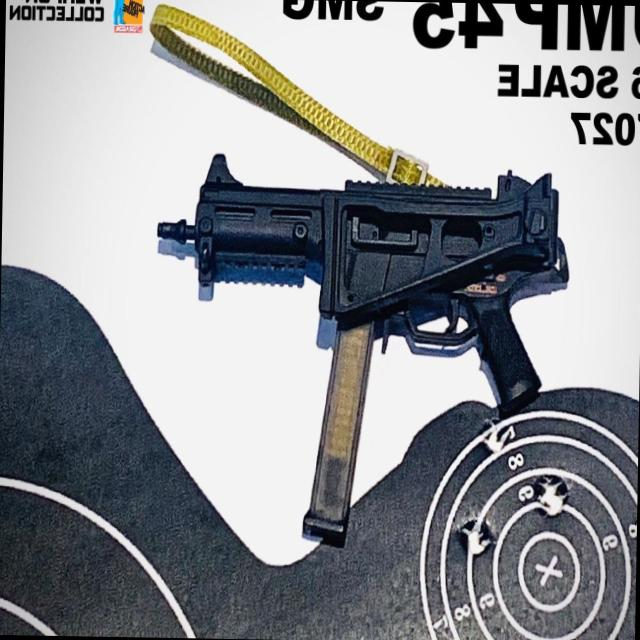Gun: (137, 147, 570, 570)
